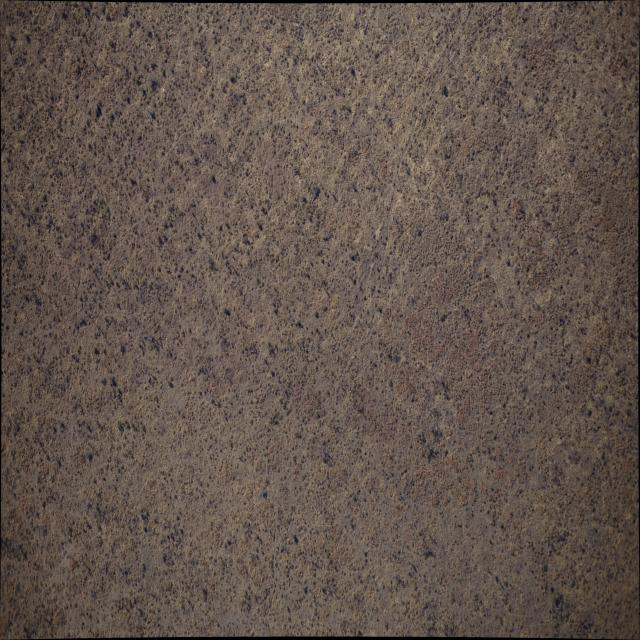elephant: (95, 102, 98, 110)
